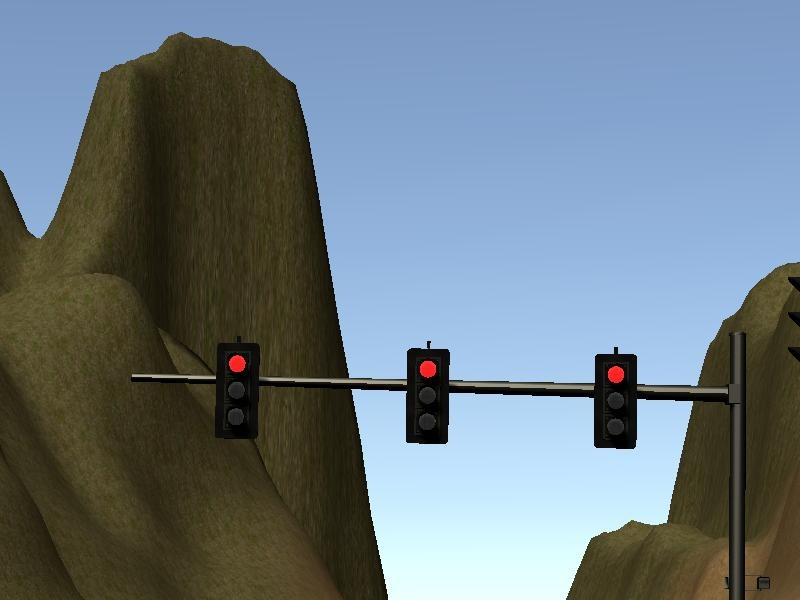red: (402, 347, 453, 448), (591, 352, 639, 450), (214, 340, 260, 441)
